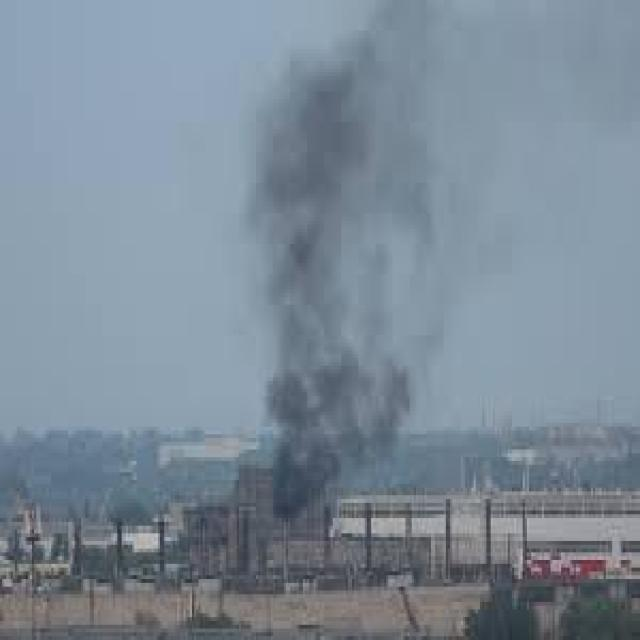Smoke: (250, 8, 470, 532)
